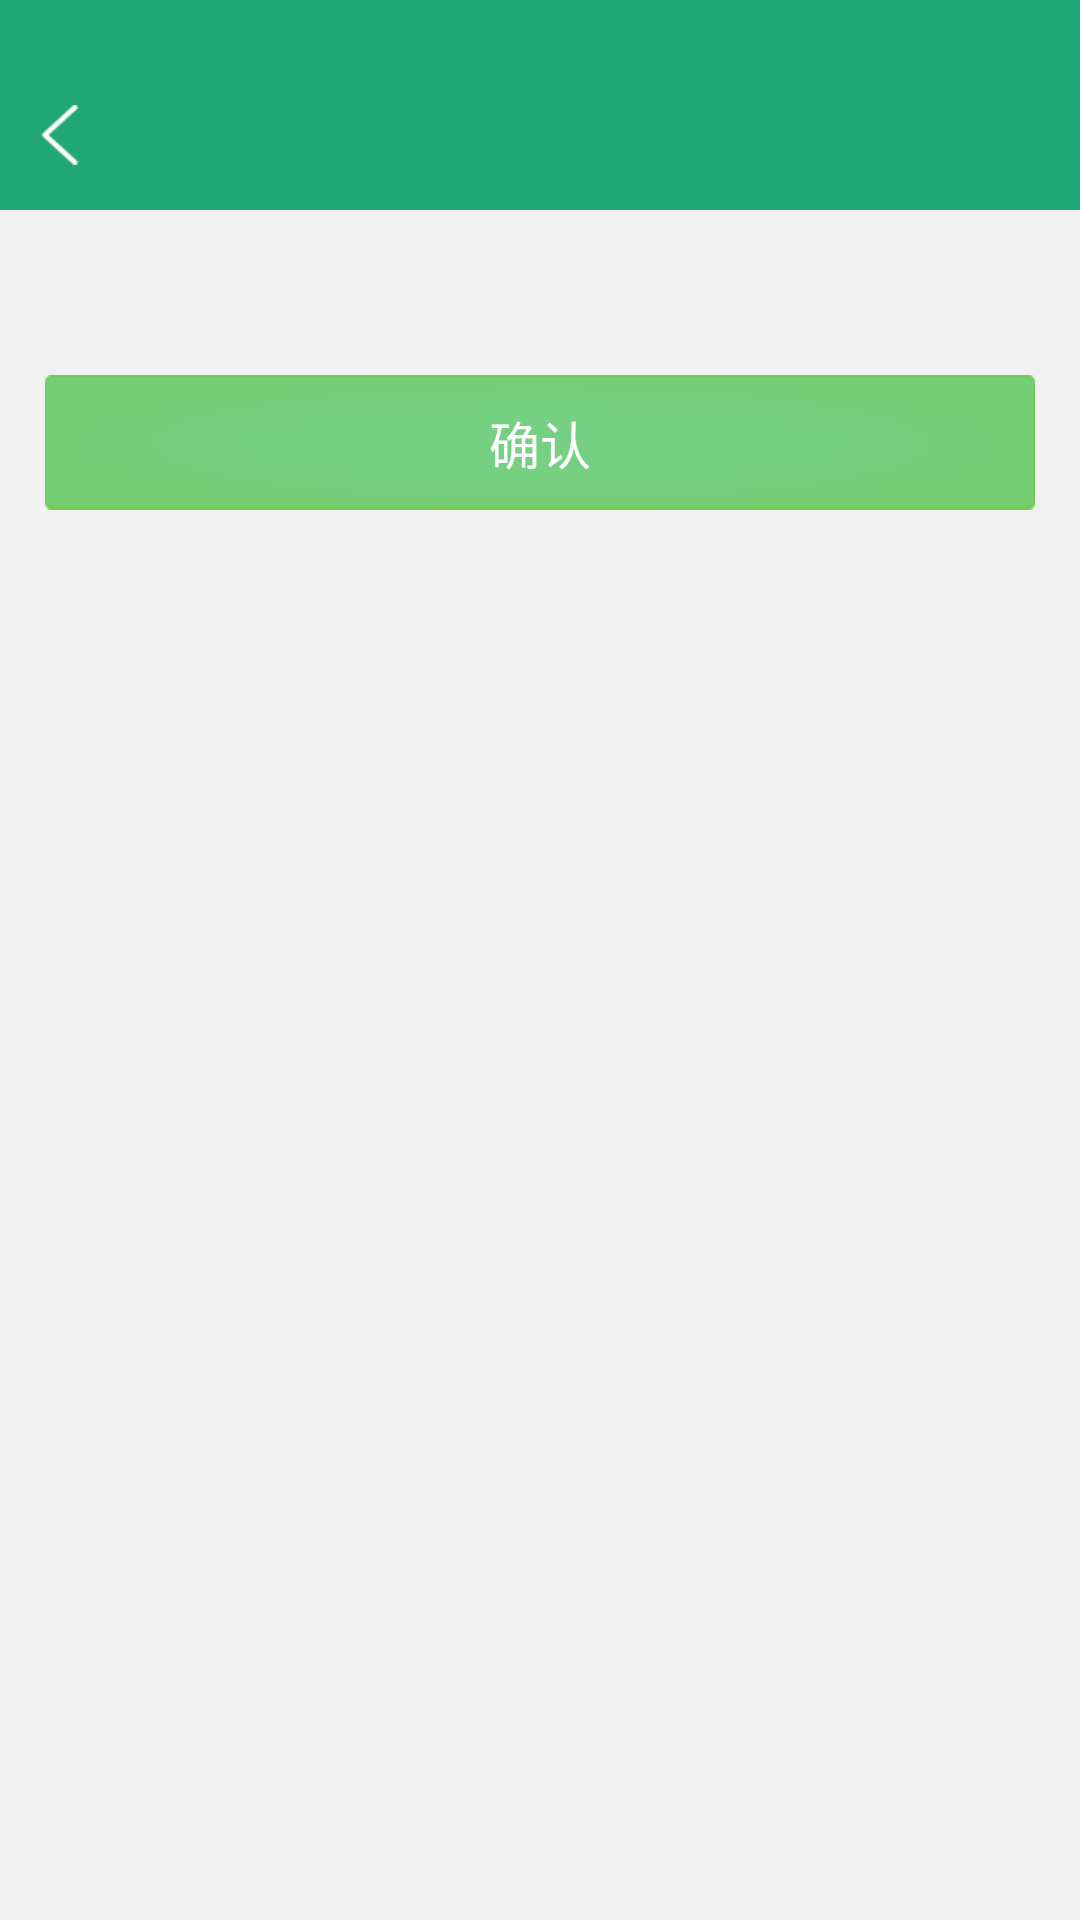

Icons on this 1080w x 1920h Android screen, each with its box as detection(x1, y1, x2, y2):
arrow left: detection(41, 105, 79, 165)
